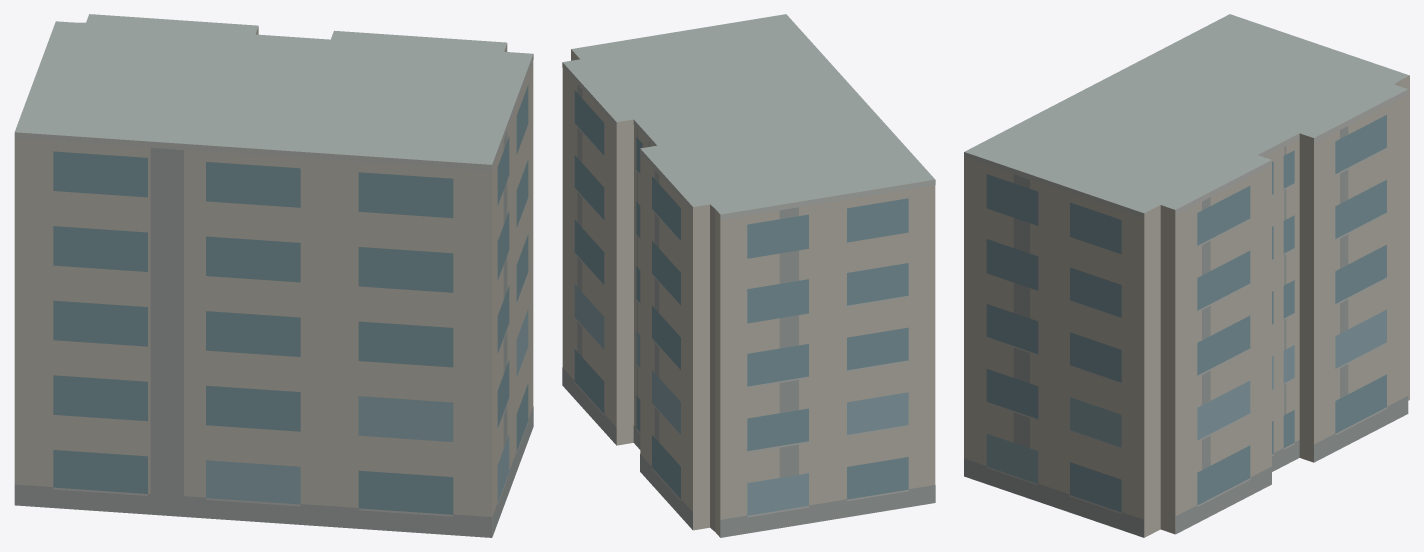
The model's file is survey-upis-32952423.glb.
The picture shows the model from 3 angles, left to right: view 1: azimuth 30°, elevation 25°; view 2: azimuth 150°, elevation 25°; view 3: azimuth 270°, elevation 25°; orthographic projection. The views are drawn at different scales.
Parts seen in each view (by area): view 1: survey-upis-32952423.tmp; view 2: survey-upis-32952423.tmp; view 3: survey-upis-32952423.tmp.
Boxes of the visible parts, x1=… form: survey-upis-32952423.tmp: x1=14, y1=14, x2=533, y2=537; survey-upis-32952423.tmp: x1=562, y1=14, x2=935, y2=537; survey-upis-32952423.tmp: x1=964, y1=14, x2=1409, y2=537.
Size of the model in its own units: 19.24 by 14.6 by 18.18.
